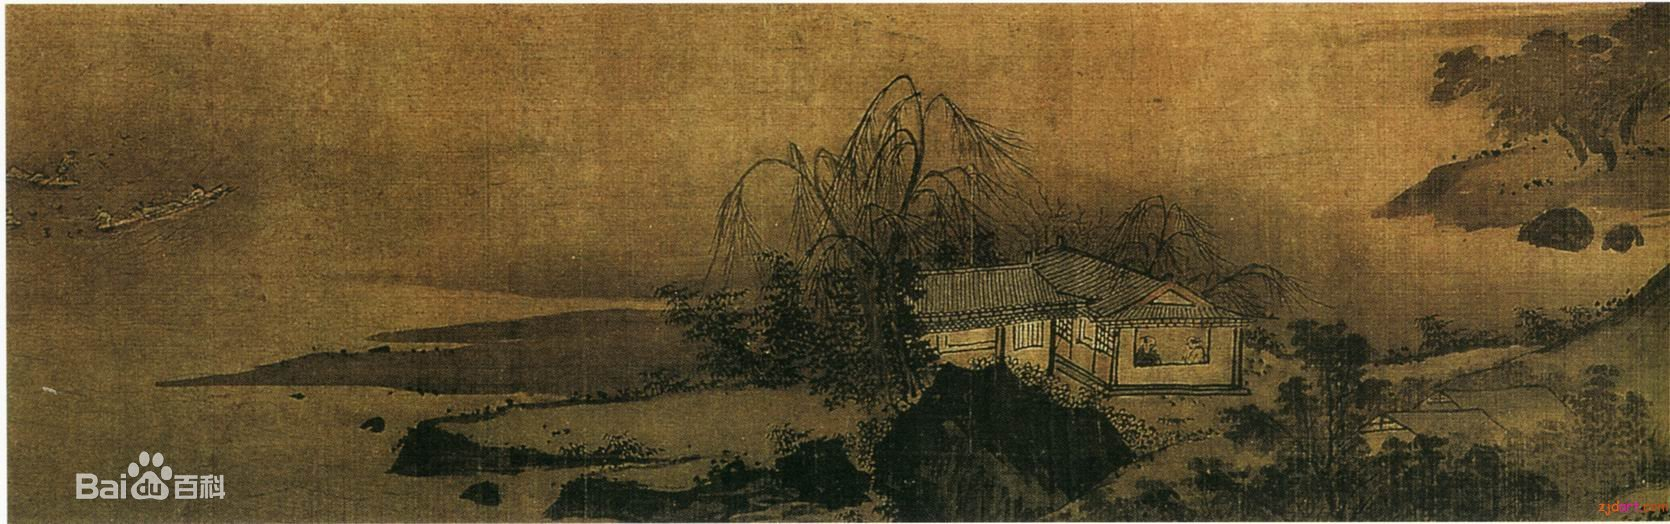boat: (85, 178, 241, 236), (7, 161, 78, 193)
house: (906, 238, 1256, 396), (1361, 392, 1571, 444)
man: (1134, 334, 1162, 369), (1182, 335, 1209, 364), (55, 150, 77, 183), (185, 184, 210, 209), (97, 207, 112, 230)
tree: (1439, 32, 1670, 167)
willow: (709, 72, 1012, 268), (1111, 191, 1196, 263), (1193, 263, 1305, 303)
